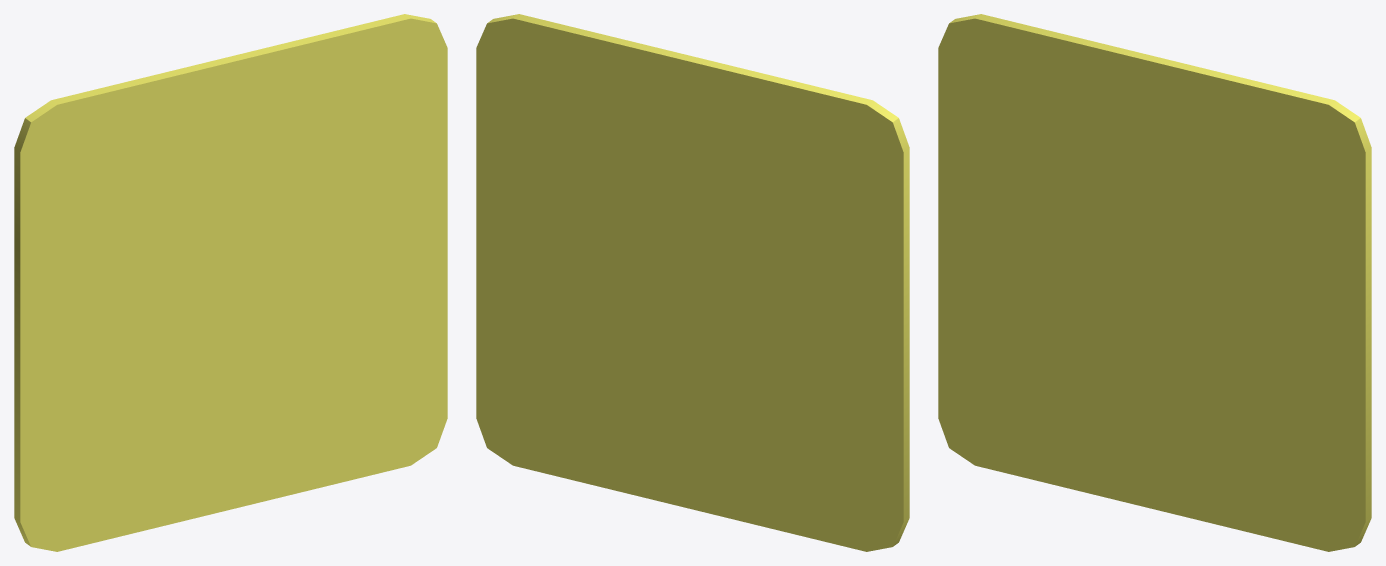
Rendered from sticky note.glb.
The picture shows the model from 3 angles, left to right: view 1: azimuth 30°, elevation 25°; view 2: azimuth 150°, elevation 25°; view 3: azimuth 330°, elevation 25°; orthographic projection.
Parts seen in each view (by area): view 1: StickyNote; view 2: StickyNote; view 3: StickyNote.
Part boxes in pixels (left/top/right/bottom): StickyNote: left=14, top=14, right=447, bottom=551; StickyNote: left=476, top=14, right=909, bottom=551; StickyNote: left=938, top=14, right=1371, bottom=551.
Size of the model in its own units: 0.1016 by 0.1016 by 0.00254.
Materials: 1 (1 with a texture image).
